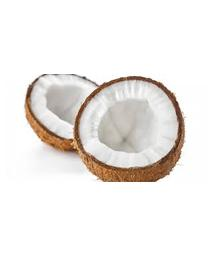coconut: (74, 75, 185, 182), (24, 73, 110, 152)
